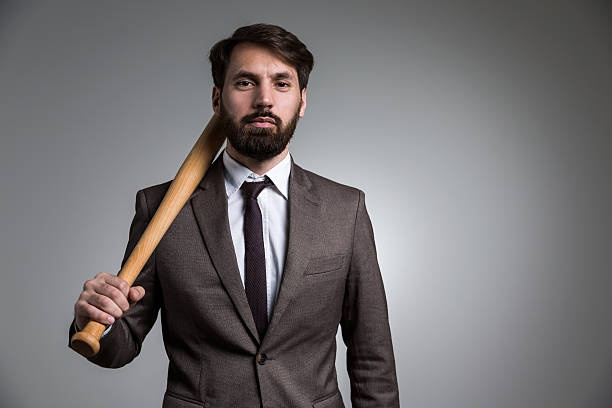bita: (73, 111, 225, 354)
